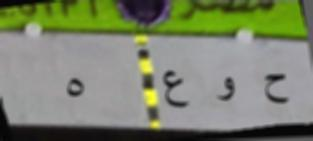5: (64, 72, 88, 103)
7aa: (262, 70, 293, 109)
ain: (160, 65, 190, 111)
waw: (210, 75, 240, 103)
